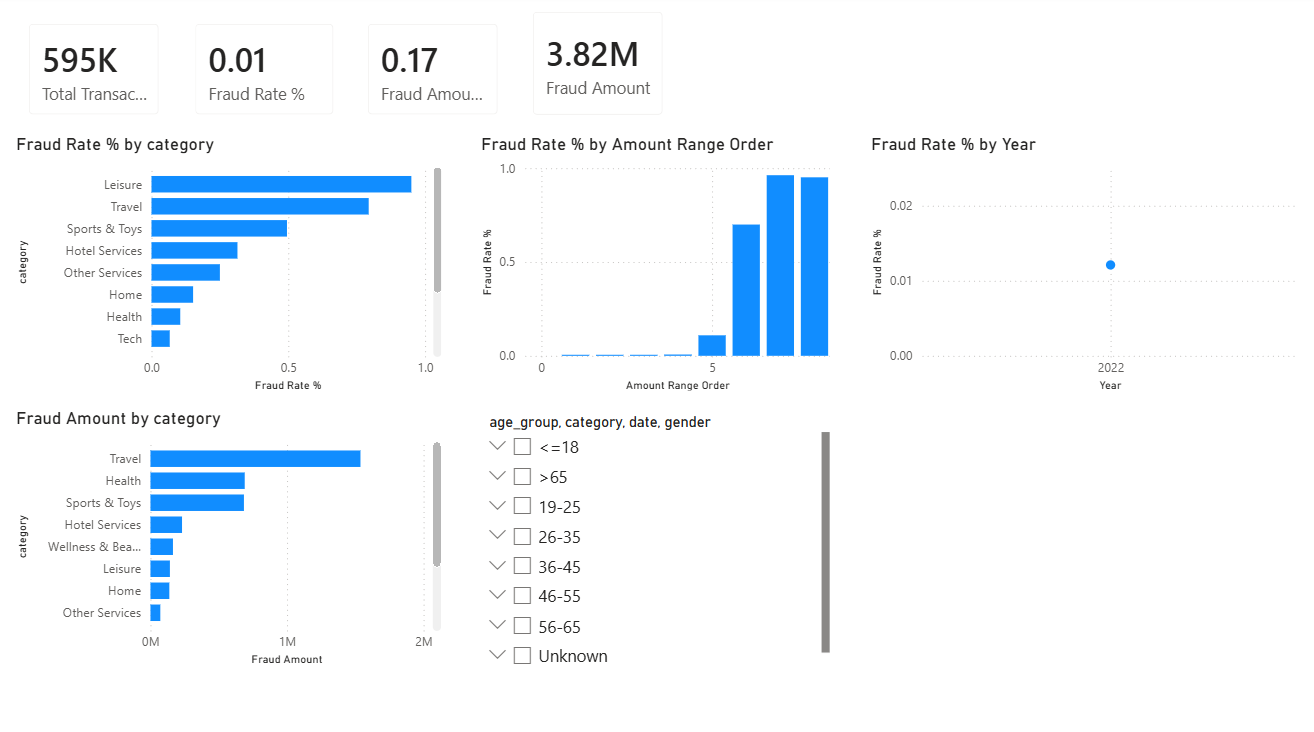

This screenshot's page, from the dashboard's own definition file:
{"tool":"powerbi","page":{"name":"Fraud Overview","canvas":[1280,720],"ordinal":0},"visuals":[{"type":"cardVisual","fields":{"Data":["powerbi_data.Total Transactions"]},"box":[15.1,12.1,160.5,122.7],"z":0},{"type":"cardVisual","fields":{"Data":["powerbi_data.Fraud Rate %"]},"box":[175.6,12.1,168.1,122.7],"z":1},{"type":"cardVisual","fields":{"Data":["powerbi_data.Fraud Amount %"]},"box":[343.7,12.1,160.5,122.7],"z":2},{"type":"cardVisual","fields":{"Data":["powerbi_data.Fraud Amount"]},"box":[504.2,0,160.5,134.8],"z":3},{"type":"clusteredBarChart","fields":{"Category":["powerbi_data.category"],"Y":["powerbi_data.Fraud Rate %"]},"box":[15.1,134.8,422.5,254.4],"z":4},{"type":"clusteredColumnChart","fields":{"Y":["powerbi_data.Fraud Rate %"],"Category":["powerbi_data.Amount Range Order"]},"box":[466.4,134.8,348.3,254.4],"z":5},{"type":"lineChart","fields":{"Category":["powerbi_data.date.Variation.Date Hierarchy.Year","powerbi_data.date.Variation.Date Hierarchy.Quarter","powerbi_data.date.Variation.Date Hierarchy.Month","powerbi_data.date.Variation.Date Hierarchy.Day"],"Y":["powerbi_data.Fraud Rate %"]},"box":[844.9,134.8,424,254.4],"z":6},{"type":"clusteredBarChart","fields":{"Category":["powerbi_data.category"],"Y":["powerbi_data.Fraud Amount"]},"box":[15,402,422,254],"z":7},{"type":"slicer","fields":{"Values":["powerbi_data.age_group","powerbi_data.category","powerbi_data.date","powerbi_data.gender"]},"box":[466,402,348,254],"z":8}]}

Visuals, with their boxes in screenshot pixels (x1, y1, x2, y2), scaled from the page's 1280x720 canvas onto the 1314x732 screenshot:
cardVisual - powerbi_data.Total Transactions: [16,12,180,137]
cardVisual - powerbi_data.Fraud Rate %: [180,12,353,137]
cardVisual - powerbi_data.Fraud Amount %: [353,12,518,137]
cardVisual - powerbi_data.Fraud Amount: [518,0,682,137]
clusteredBarChart - powerbi_data.category x powerbi_data.Fraud Rate %: [16,137,449,396]
clusteredColumnChart - powerbi_data.Fraud Rate % x powerbi_data.Amount Range Order: [479,137,836,396]
lineChart - powerbi_data.date.Variation.Date Hierarchy.Year x powerbi_data.date.Variation.Date Hierarchy.Quarter: [867,137,1303,396]
clusteredBarChart - powerbi_data.category x powerbi_data.Fraud Amount: [15,409,449,667]
slicer - powerbi_data.age_group x powerbi_data.category: [478,409,836,667]
